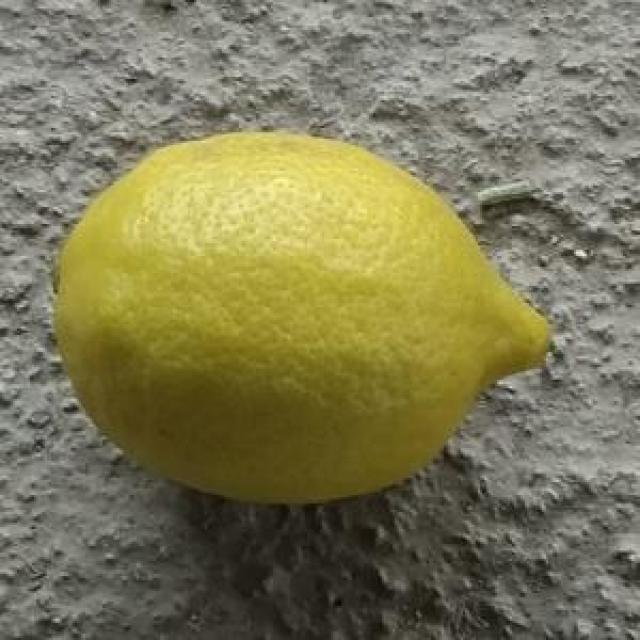lemon: (51, 125, 556, 508)
